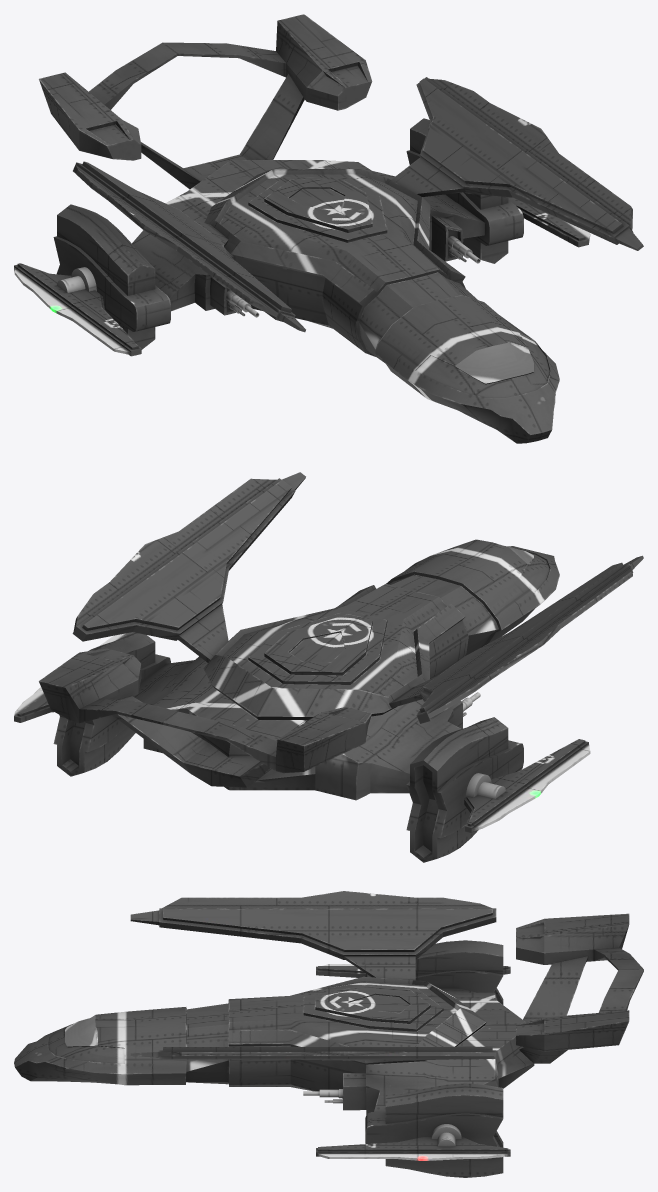
Rendered from Paragon.glb.
3 views of the same model, one above another, from view 1: azimuth 30°, elevation 25°; view 2: azimuth 150°, elevation 25°; view 3: azimuth 270°, elevation 25° (orthographic). The views are drawn at different scales.
Parts seen in each view (by area): view 1: Куб; view 2: Куб; view 3: Куб.
Part boxes in pixels (<box>): Куб: <box>14,14,643,443</box>; Куб: <box>14,472,643,862</box>; Куб: <box>14,891,643,1177</box>.
Size of the model in its own units: 0.6689 by 0.2201 by 0.9035.
Materials: 4 (4 with a texture image).
